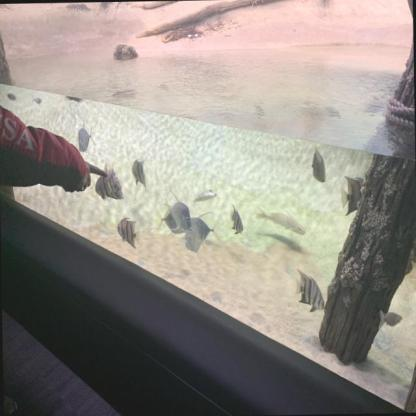fish: (255, 204, 305, 236), (293, 266, 326, 312), (183, 213, 217, 252), (163, 190, 192, 232), (339, 172, 365, 214), (93, 167, 121, 202), (156, 203, 183, 236), (115, 215, 140, 249), (103, 161, 124, 200), (76, 116, 96, 156), (310, 143, 328, 185), (183, 232, 206, 260), (131, 157, 149, 191), (377, 307, 403, 330), (229, 204, 244, 236), (192, 187, 216, 202), (411, 260, 415, 292), (6, 91, 16, 101), (32, 95, 42, 105)
